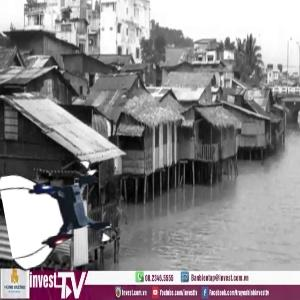drone: (6, 159, 114, 267)
